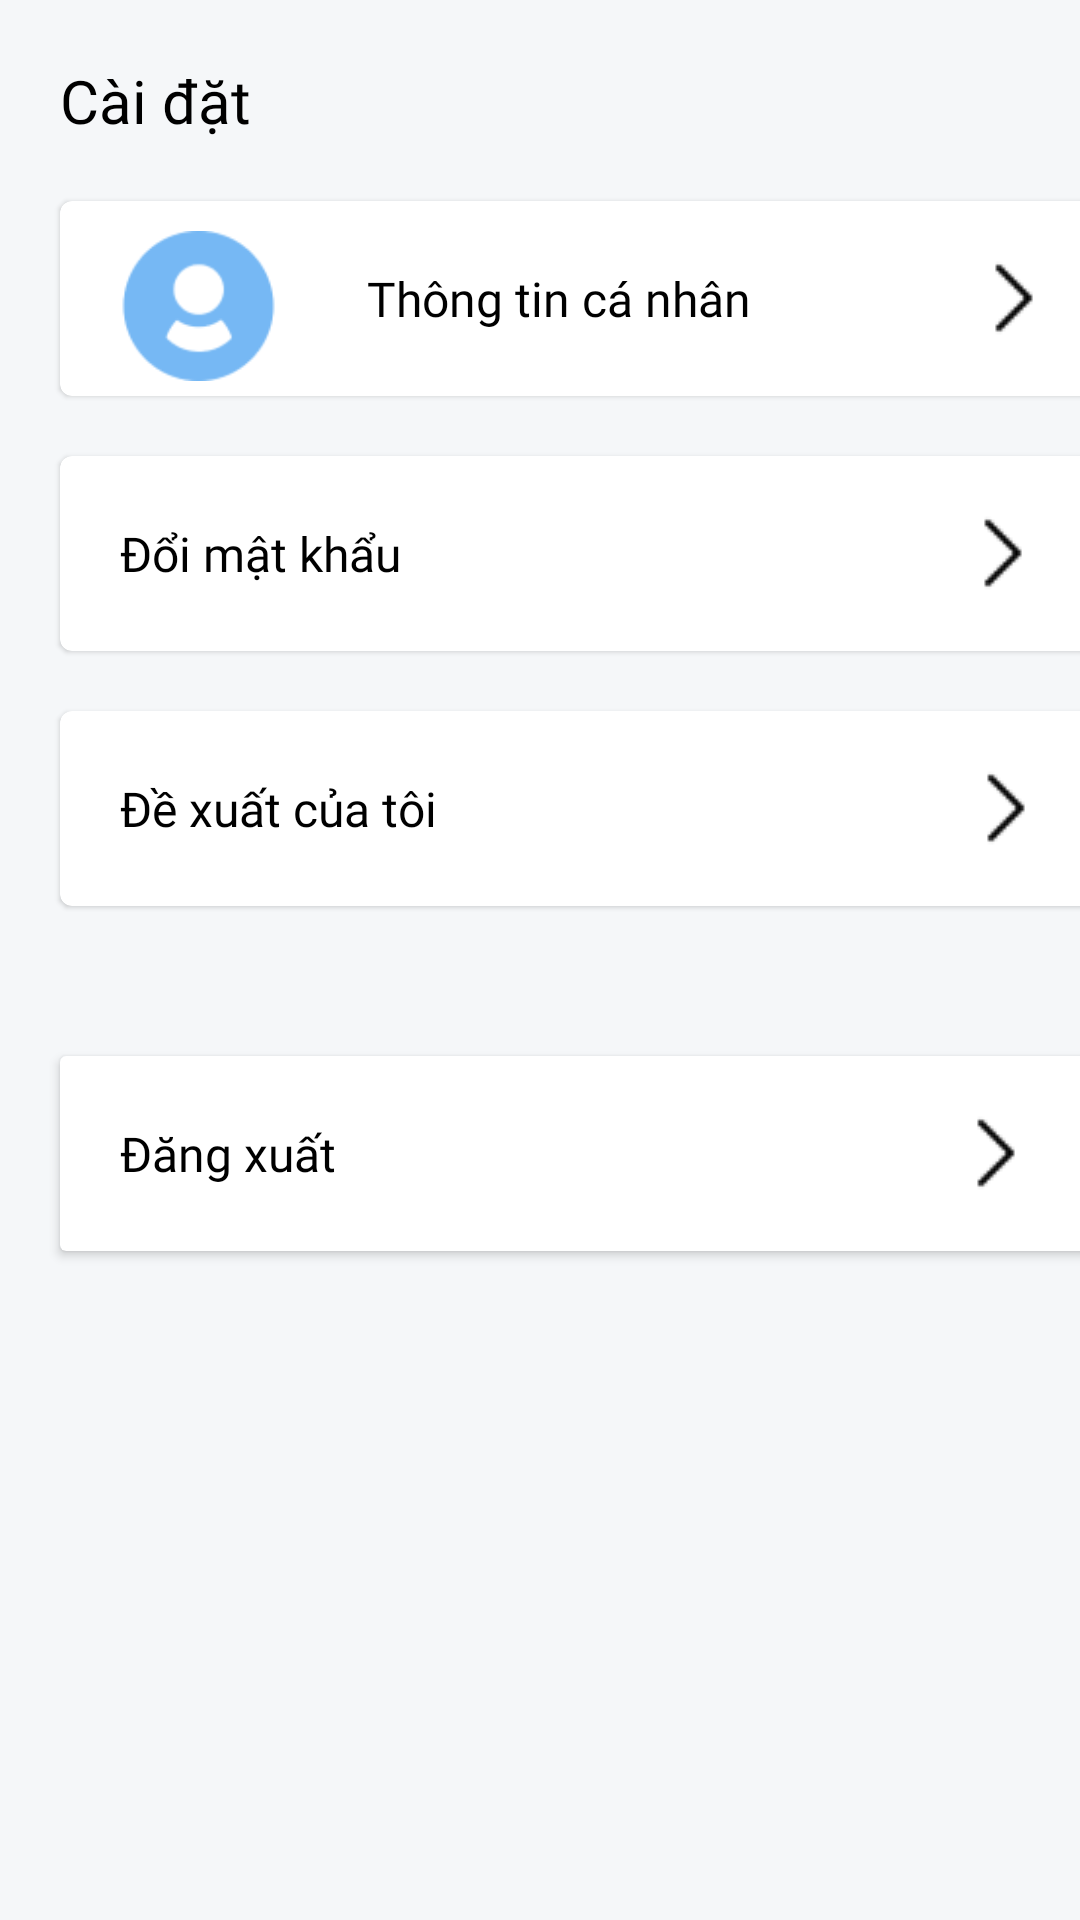

Point at icon controls on the screen. Image size 1080 x 1920, points as point (x, y).
next arrow: point (1014, 298), point (1003, 553), point (1006, 808), point (996, 1153)
